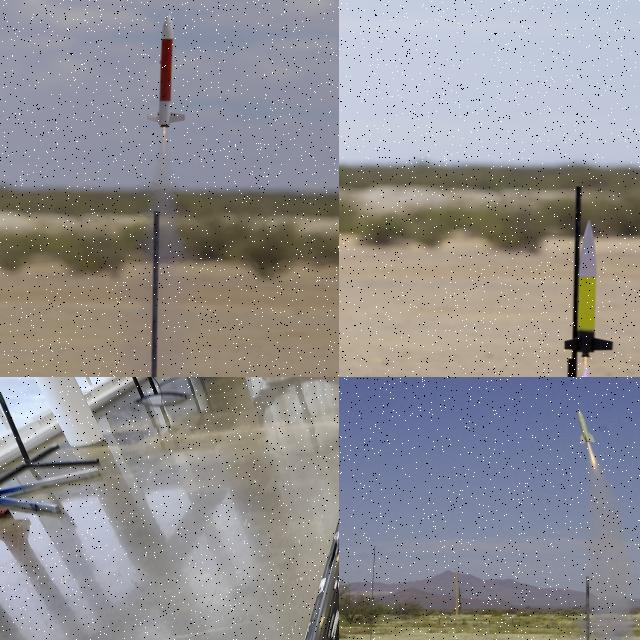Rocket: (565, 218, 613, 358), (145, 13, 187, 128), (577, 408, 596, 444)
